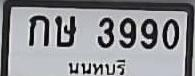0: (162, 18, 178, 48)
3: (97, 16, 113, 47)
9: (118, 17, 135, 47), (140, 18, 156, 48)
A01: (28, 14, 48, 45)
A39: (54, 15, 75, 46)
NBI: (67, 57, 128, 76)
